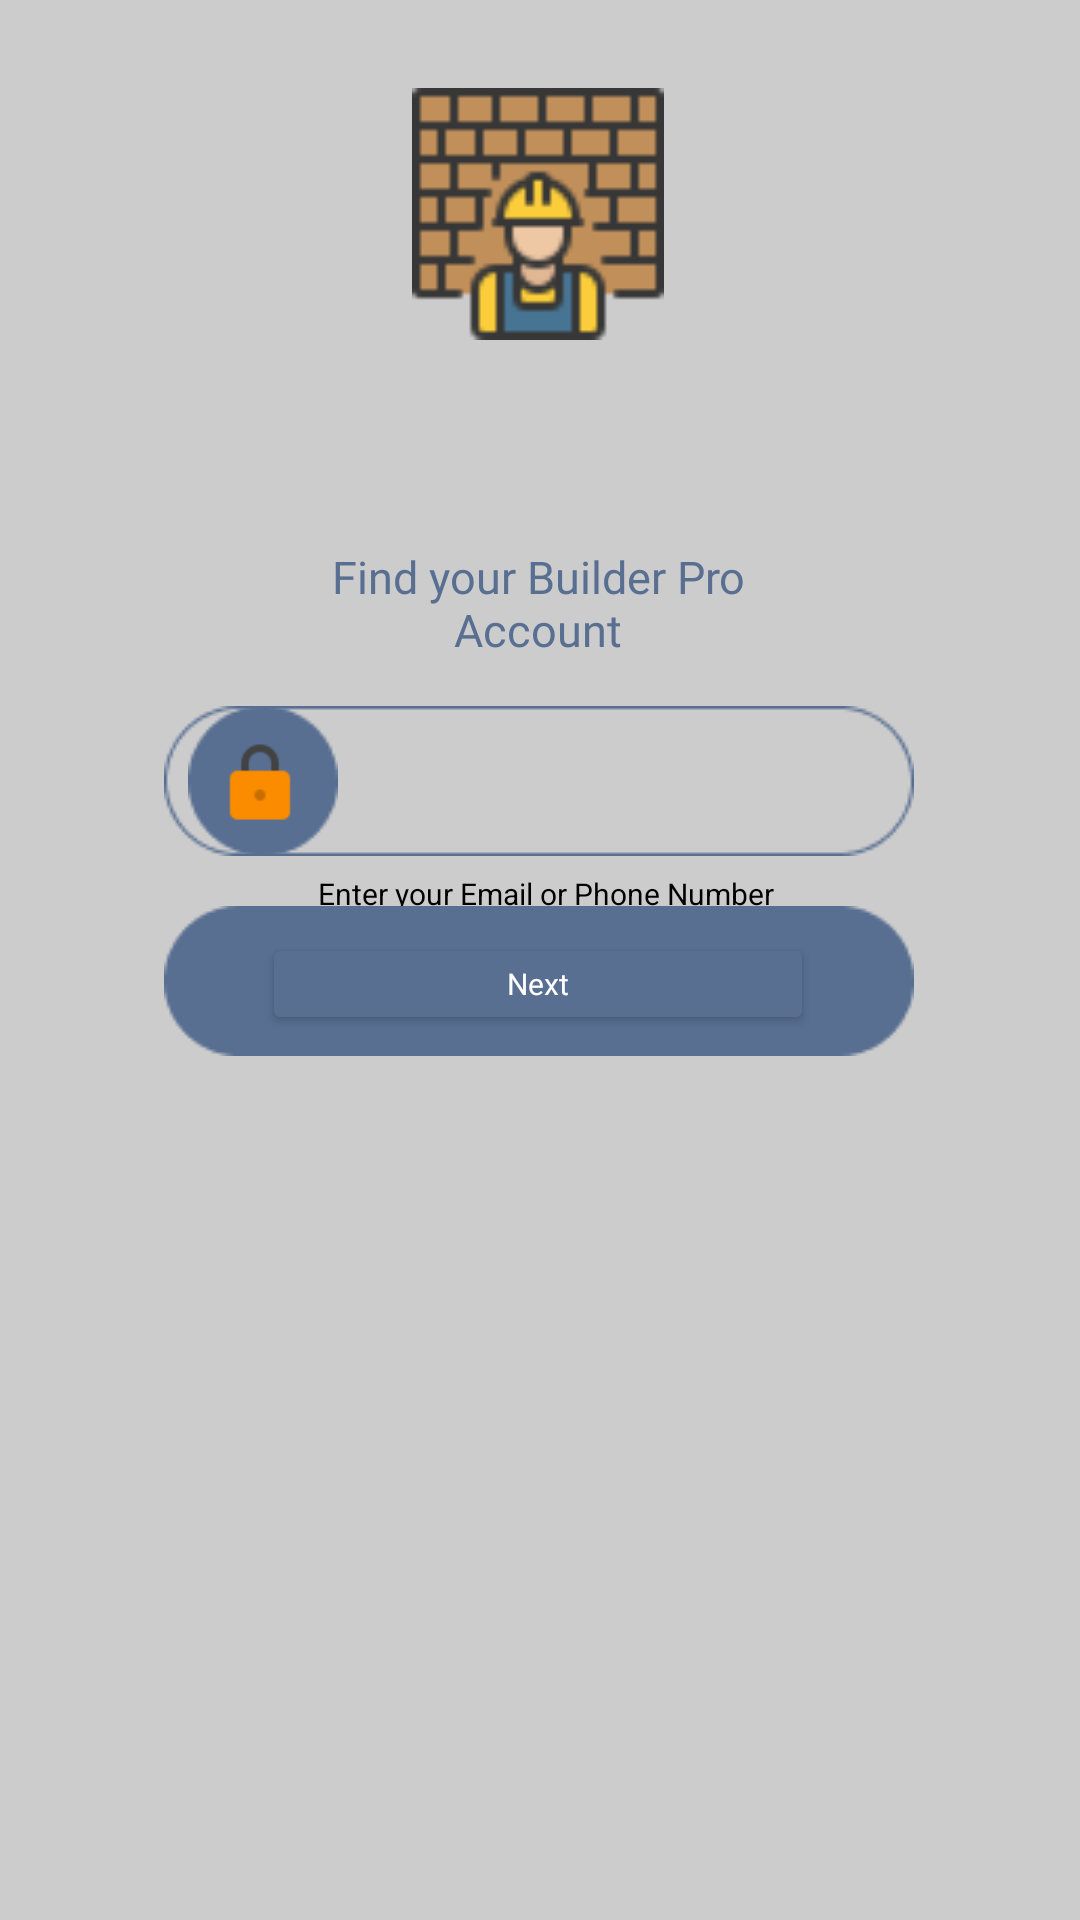

Icons on this 1080 x 1920 Android screen, each with the point to tap as point (x, y):
builder: point (538, 214)
